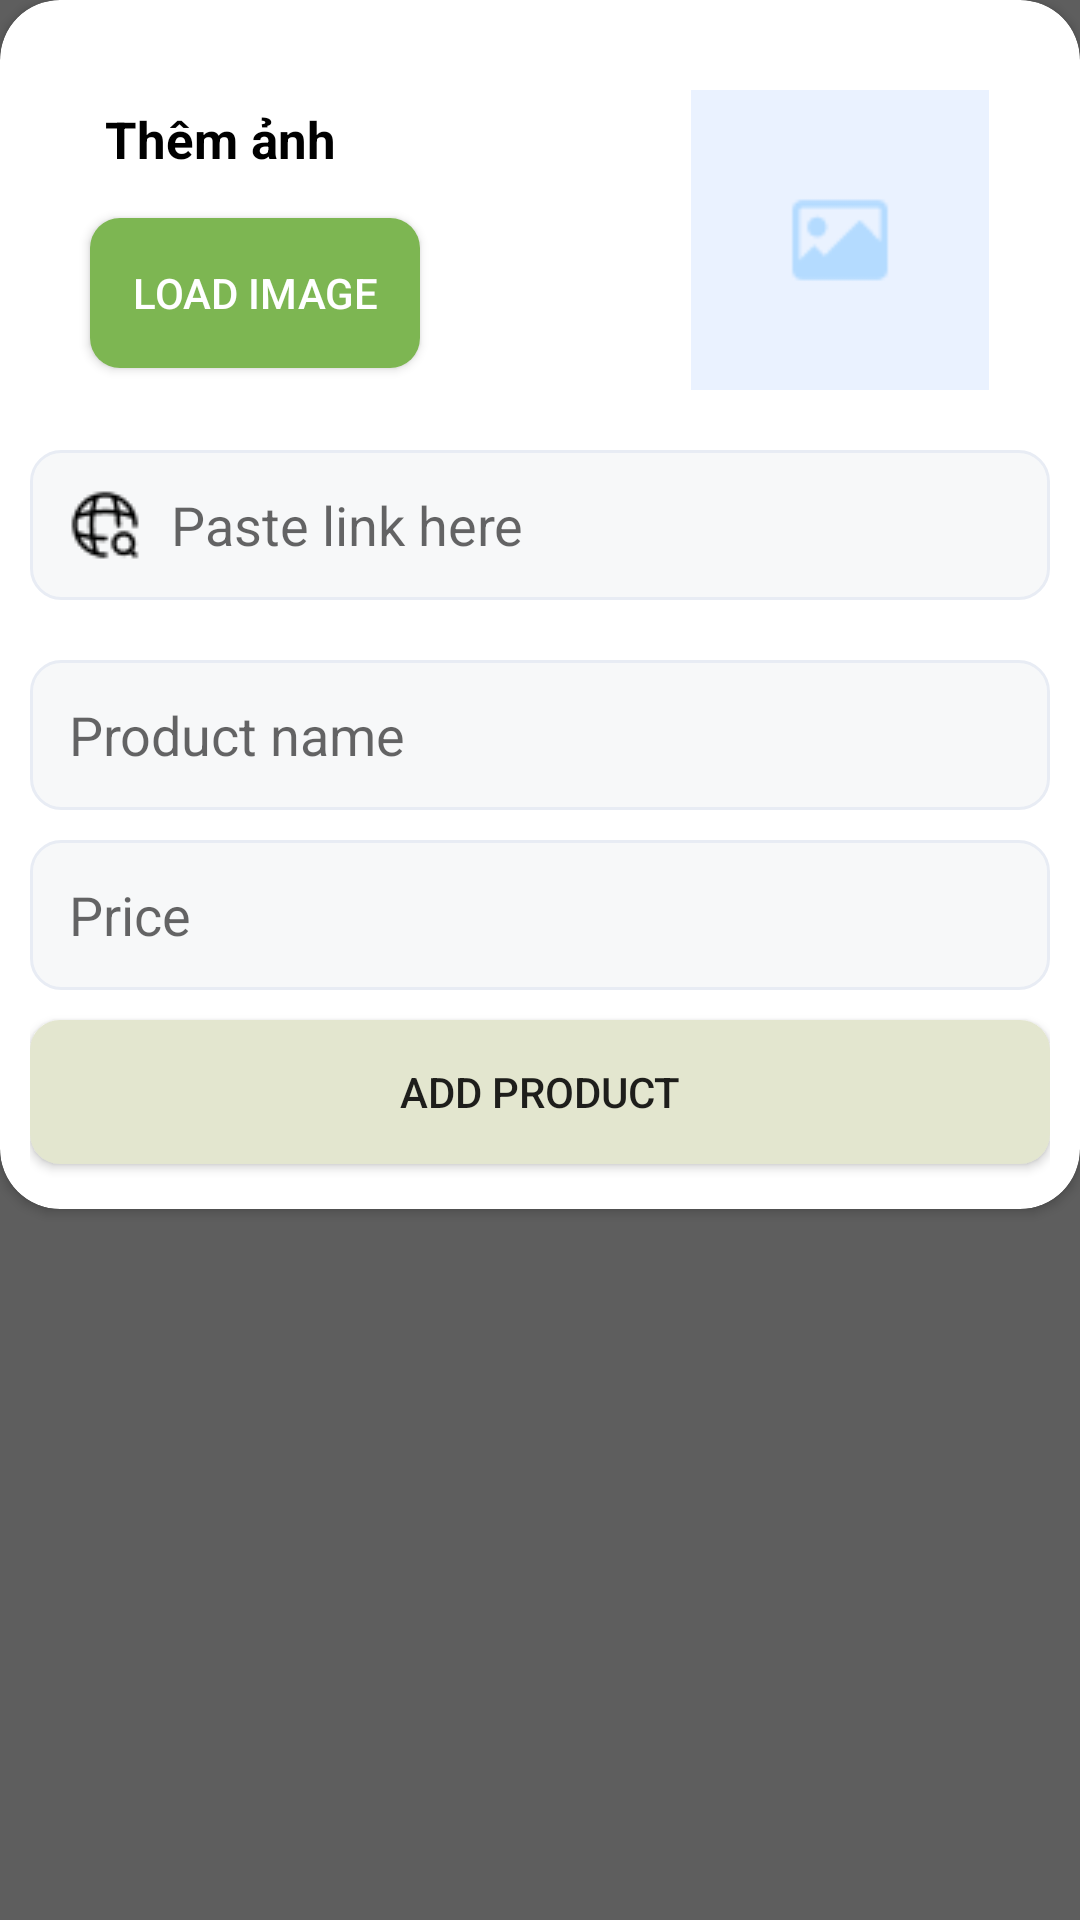

Named icons in this screenshot (1080px×1920px) and their centers, point (x, y):
lazyimage: point (840, 240)
